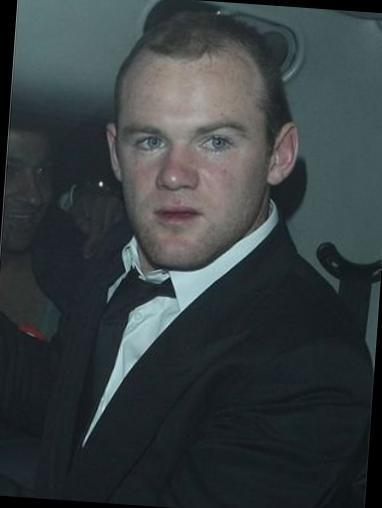Drunk: (116, 54, 264, 274)
